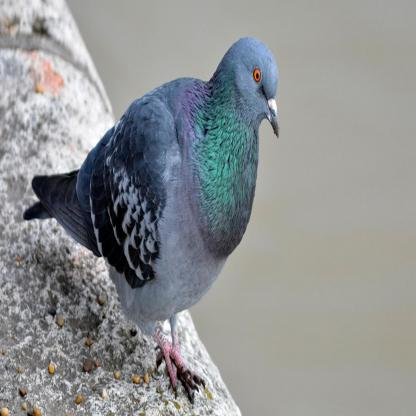Flying Rat: (26, 36, 291, 389)
